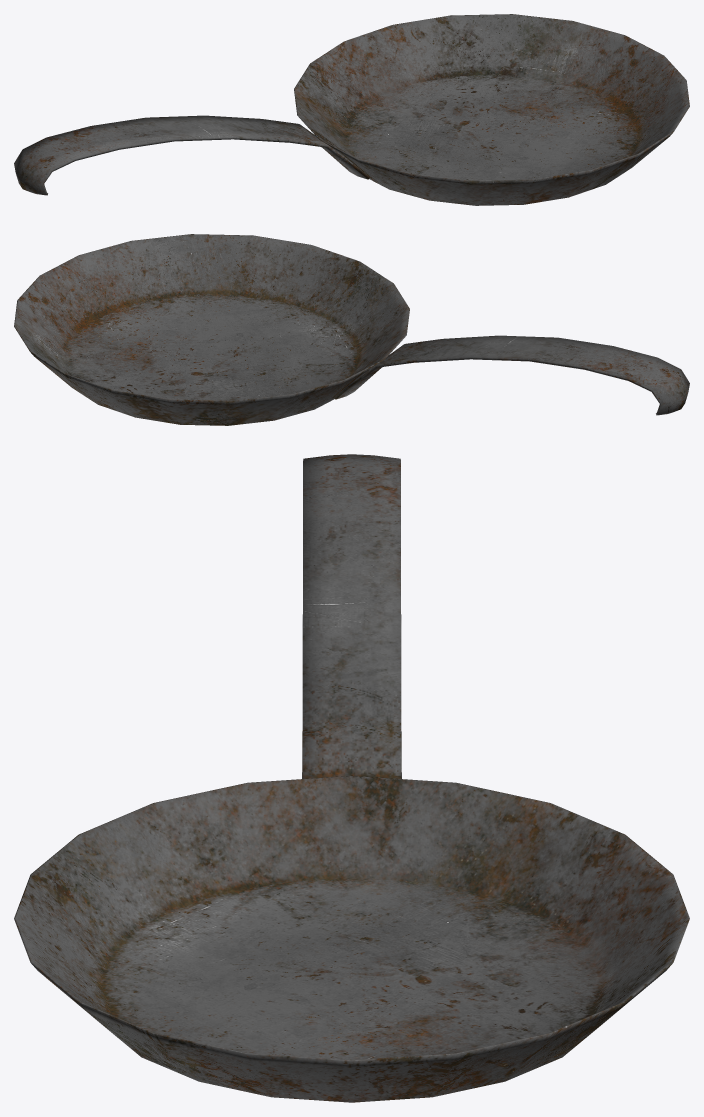
Rendered from CAMP_fryingPan.fbx.
3 renders of one model, top to bottom at view 1: azimuth 30°, elevation 25°; view 2: azimuth 150°, elevation 25°; view 3: azimuth 270°, elevation 25°, orthographic. The views are drawn at different scales.
Visible parts, largest first — view 1: CAMP_fryingPan; view 2: CAMP_fryingPan; view 3: CAMP_fryingPan.
Boxes of the visible parts, box(x1,y1,x2,y2) form: CAMP_fryingPan: box(14, 14, 689, 205); CAMP_fryingPan: box(14, 234, 689, 425); CAMP_fryingPan: box(14, 454, 689, 1102).
Size of the model in its own units: 56.53 by 8.46 by 30.24.
